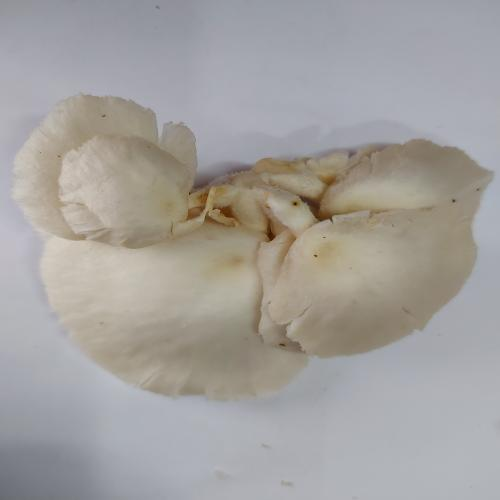Oyster Mushroom: (12, 92, 494, 401)
